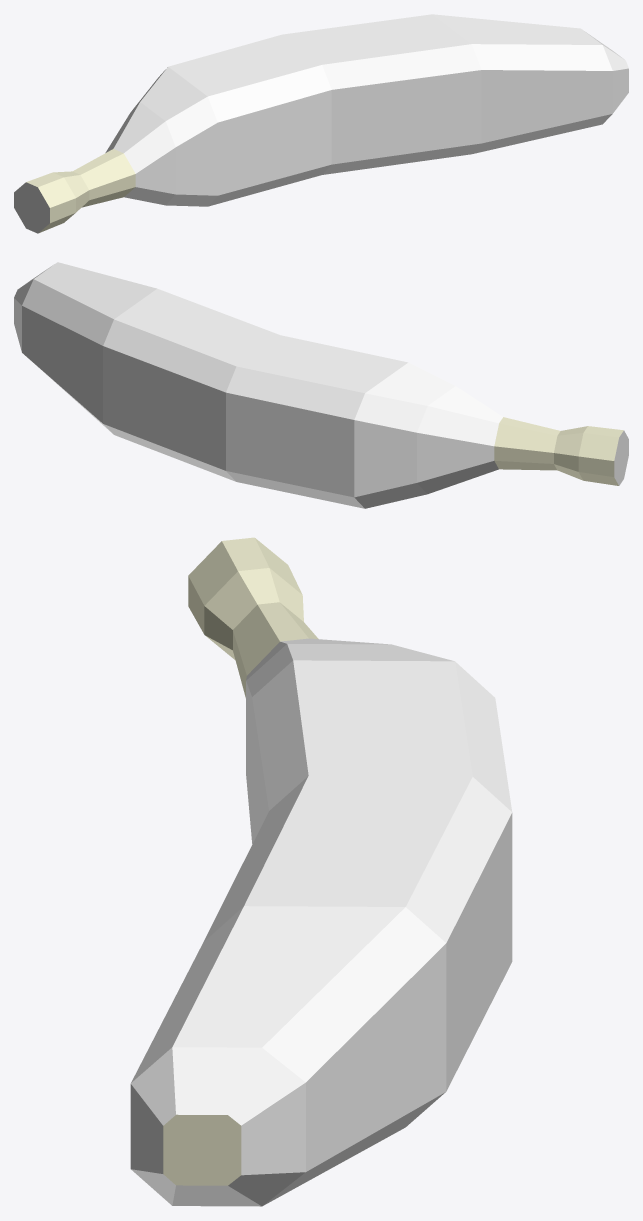
Rendered from banana.fbx.
3 renders of one model, top to bottom at view 1: azimuth 30°, elevation 25°; view 2: azimuth 150°, elevation 25°; view 3: azimuth 270°, elevation 25°, orthographic. The views are drawn at different scales.
Parts seen in each view (by area): view 1: pCube2; view 2: pCube2; view 3: pCube2.
Part boxes in pixels (left/top/right/bottom): pCube2: left=14, top=14, right=628, bottom=233; pCube2: left=14, top=262, right=628, bottom=508; pCube2: left=130, top=537, right=512, bottom=1206.
Bounding box in the file's own units: 0.8952 × 0.1614 × 0.2532.
